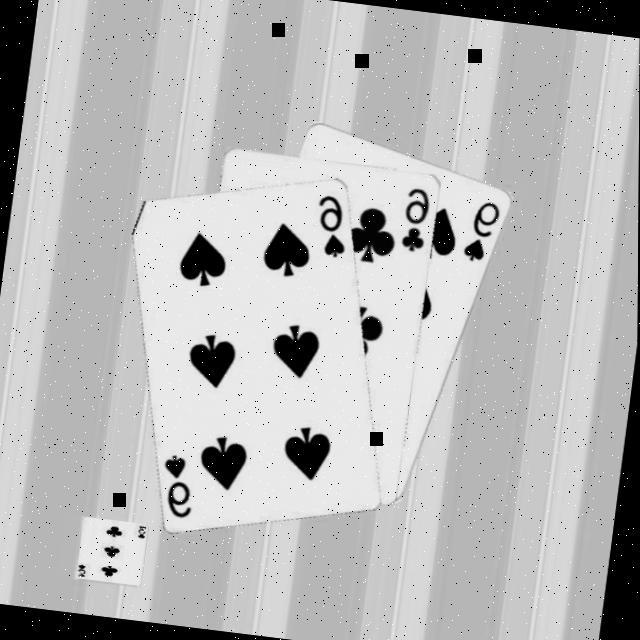6C: (395, 184, 433, 256)
6S: (152, 450, 200, 522), (306, 191, 352, 263)
9S: (457, 196, 503, 268)
